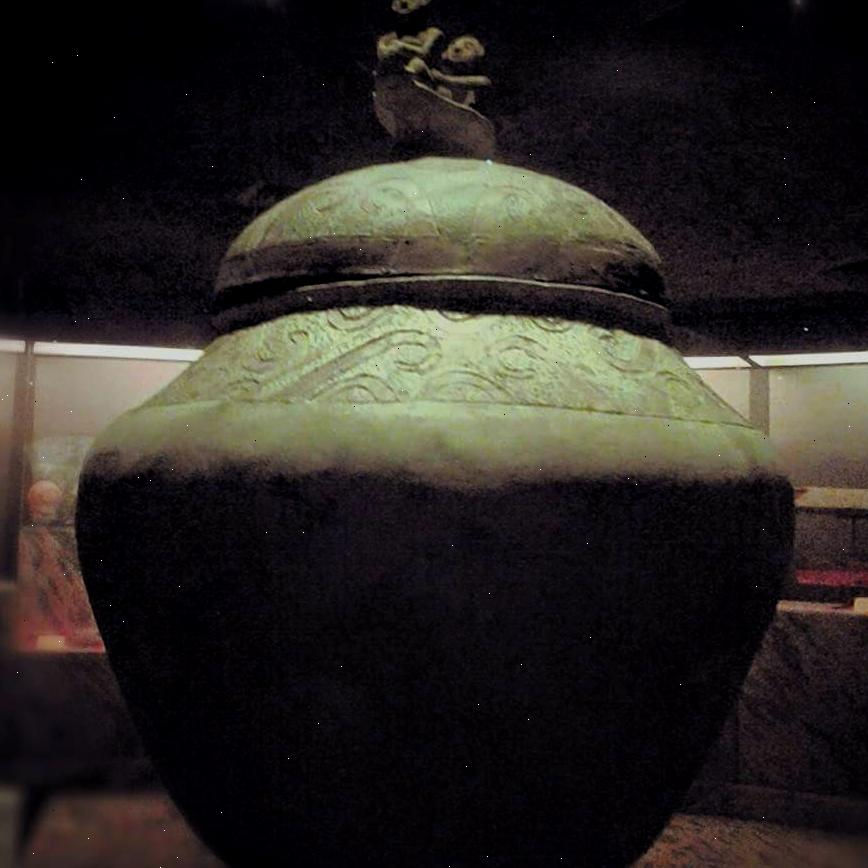manunggul_jar: (76, 0, 803, 868)
